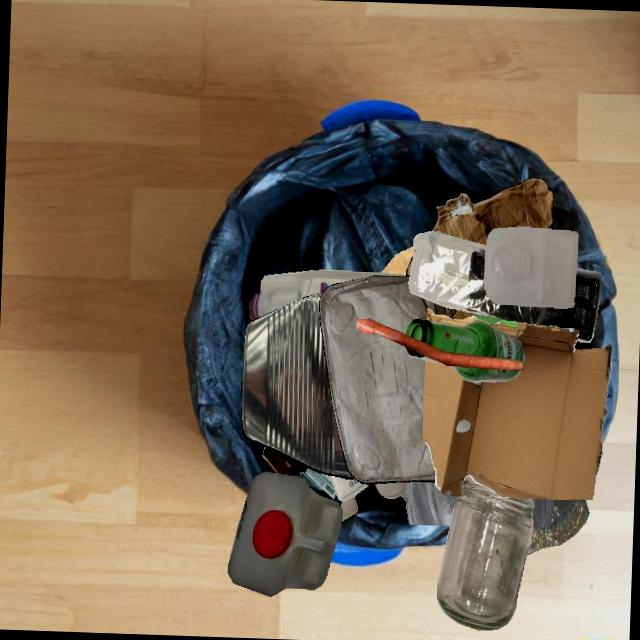biowaste: (356, 318, 523, 370), (381, 245, 413, 275)
cardboard: (422, 308, 611, 500), (430, 177, 553, 245)
glass: (436, 476, 534, 630), (262, 446, 342, 506), (404, 318, 524, 357), (374, 481, 406, 501)
metal: (319, 275, 452, 484), (241, 292, 354, 479)
paper: (329, 474, 370, 501), (340, 496, 357, 521)
plastic: (408, 230, 600, 342), (227, 471, 342, 597), (483, 226, 578, 308), (249, 270, 407, 319), (449, 479, 532, 527), (526, 499, 589, 554), (405, 481, 450, 524), (530, 498, 554, 527)
